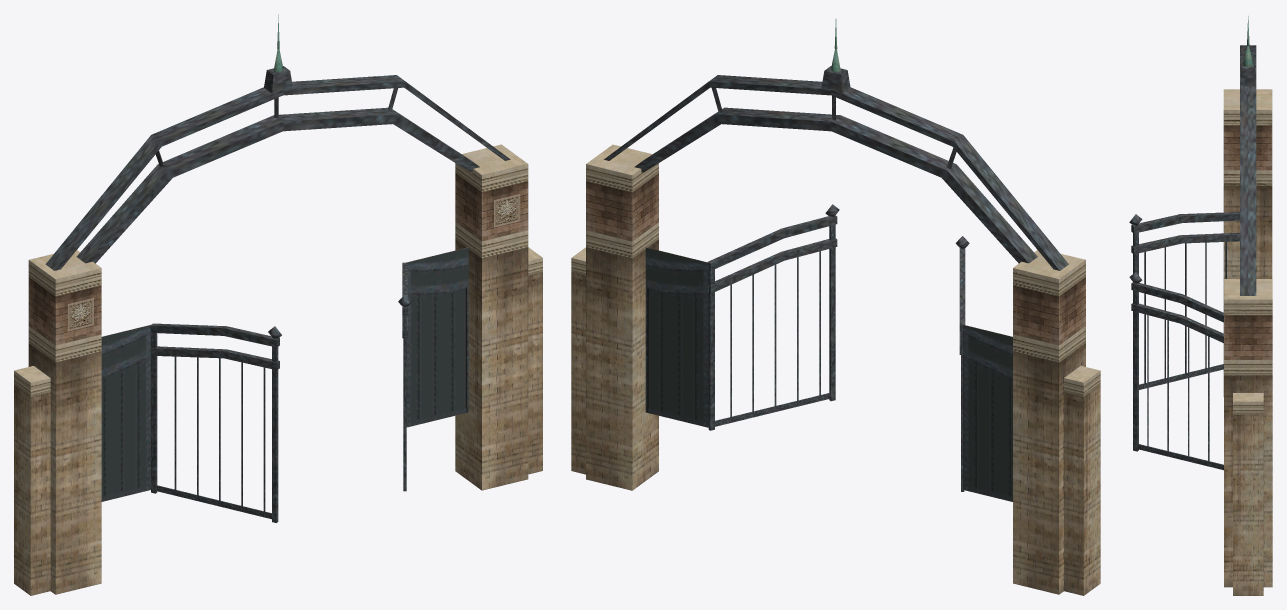
File: thm_nboo_imprv_wide_gate_s01_l2.fbx
The picture shows the model from 3 angles, left to right: view 1: azimuth 30°, elevation 25°; view 2: azimuth 150°, elevation 25°; view 3: azimuth 270°, elevation 25°; orthographic projection. The views are drawn at different scales.
Parts seen in each view (by area): view 1: mesh_node; view 2: mesh_node; view 3: mesh_node.
Boxes of the visible parts, x1=… form: mesh_node: x1=14, y1=14, x2=542, y2=595; mesh_node: x1=571, y1=19, x2=1100, y2=595; mesh_node: x1=1129, y1=16, x2=1272, y2=595.
Bounding box in the file's own units: 16.18 × 15.49 × 4.3.
